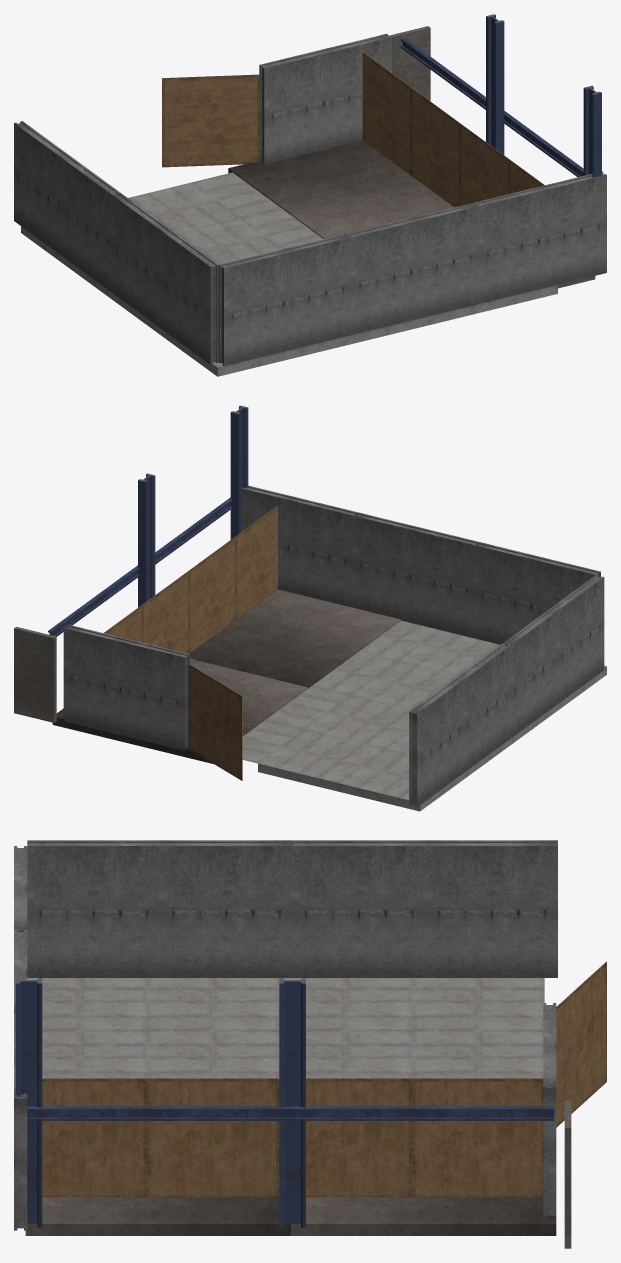
File: BuildingMap_3_0.gltf
3 views of the same model, one above another, from view 1: azimuth 30°, elevation 25°; view 2: azimuth 150°, elevation 25°; view 3: azimuth 270°, elevation 25° (orthographic). The views are drawn at different scales.
Parts seen in each view (by area): view 1: SM_Building_Pieces_WallConcrete6m20, SM_Building_Pieces_WallConcrete6m21, SM_Building_Pieces_WallConcrete6m22, SM_Floors_Thick_164, SM_BP_WallCon_8x16, SM_Building_Pieces_WallConcrete6m47, SM_BP_WallCon_8x17, SM_Wall_Inside_48, SM_Floors_Thick_129, SM_Wall_Inside_49, SM_Wall_Inside_50, SM_Floors_Plain_52 (+9 smaller); view 2: SM_Building_Pieces_WallConcrete6m47, SM_Building_Pieces_WallConcrete6m21, SM_Floors_Thick_129, SM_Floors_Thick_165, SM_BP_WallCon_8x17, SM_BP_WallCon_8x16, SM_Building_Pieces_WallConcrete6m22, SM_Building_Pieces_WallConcrete6m20, SM_Floors_Thick_128, SM_Wall_Inside_48, SM_Floors_Thick_164, SM_Wall_Inside_51 (+11 smaller); view 3: SM_BP_WallCon_8x16, SM_BP_WallCon_8x17, SM_Floors_Thick_129, SM_Floors_Thick_128, SM_Wall_Inside_51, SM_Wall_Inside_49, SM_Wall_Inside_50, SM_Wall_Inside_52, SM_Floors_Thick_164, SM_Floors_Thick_165, SM_Building_Pieces_2_SteelRudder115, SM_Wall_Inside_48 (+10 smaller).
Boxes of the visible parts, x1=… form: SM_Building_Pieces_WallConcrete6m20: x1=219, y1=233, x2=351, y2=366; SM_Building_Pieces_WallConcrete6m21: x1=347, y1=202, x2=479, y2=334; SM_Building_Pieces_WallConcrete6m22: x1=475, y1=171, x2=606, y2=303; SM_Floors_Thick_164: x1=228, y1=140, x2=453, y2=238; SM_BP_WallCon_8x16: x1=112, y1=193, x2=218, y2=364; SM_Building_Pieces_WallConcrete6m47: x1=259, y1=34, x2=391, y2=163; SM_BP_WallCon_8x17: x1=14, y1=121, x2=120, y2=292; SM_Wall_Inside_48: x1=162, y1=74, x2=259, y2=167; SM_Floors_Thick_129: x1=21, y1=182, x2=281, y2=304; SM_Wall_Inside_49: x1=362, y1=52, x2=411, y2=175; SM_Wall_Inside_50: x1=411, y1=87, x2=460, y2=207; SM_Floors_Plain_52: x1=191, y1=172, x2=323, y2=249; SM_Building_Pieces_WallConcrete6m47: x1=63, y1=624, x2=189, y2=750; SM_Building_Pieces_WallConcrete6m21: x1=353, y1=512, x2=478, y2=638; SM_Floors_Thick_129: x1=258, y1=695, x2=513, y2=811; SM_Floors_Thick_165: x1=190, y1=589, x2=400, y2=688; SM_BP_WallCon_8x17: x1=409, y1=643, x2=510, y2=806; SM_BP_WallCon_8x16: x1=503, y1=575, x2=604, y2=737; SM_Building_Pieces_WallConcrete6m22: x1=241, y1=485, x2=357, y2=607; SM_Building_Pieces_WallConcrete6m20: x1=474, y1=542, x2=600, y2=644; SM_Floors_Thick_128: x1=352, y1=630, x2=606, y2=742; SM_Wall_Inside_48: x1=188, y1=664, x2=242, y2=780; SM_Floors_Thick_164: x1=52, y1=658, x2=307, y2=763; SM_Wall_Inside_51: x1=189, y1=536, x2=235, y2=653; SM_BP_WallCon_8x16: x1=27, y1=840, x2=292, y2=977; SM_BP_WallCon_8x17: x1=292, y1=840, x2=557, y2=977; SM_Floors_Thick_129: x1=283, y1=978, x2=544, y2=1078; SM_Floors_Thick_128: x1=27, y1=978, x2=279, y2=1078; SM_Wall_Inside_51: x1=146, y1=1078, x2=278, y2=1197; SM_Wall_Inside_49: x1=412, y1=1078, x2=543, y2=1197; SM_Wall_Inside_50: x1=279, y1=1078, x2=411, y2=1197; SM_Wall_Inside_52: x1=42, y1=1078, x2=146, y2=1197; SM_Floors_Thick_164: x1=291, y1=1197, x2=556, y2=1235; SM_Floors_Thick_165: x1=25, y1=1197, x2=290, y2=1235; SM_Building_Pieces_2_SteelRudder115: x1=279, y1=978, x2=305, y2=1227; SM_Wall_Inside_48: x1=556, y1=961, x2=606, y2=1127.
Bounding box in the file's own units: 19.7 × 8.52 × 17.87.
10 materials, 10 textured.
